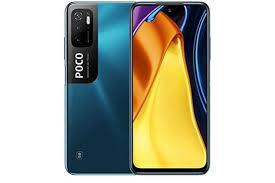Smartphone: (128, 6, 210, 173), (60, 0, 135, 174)
